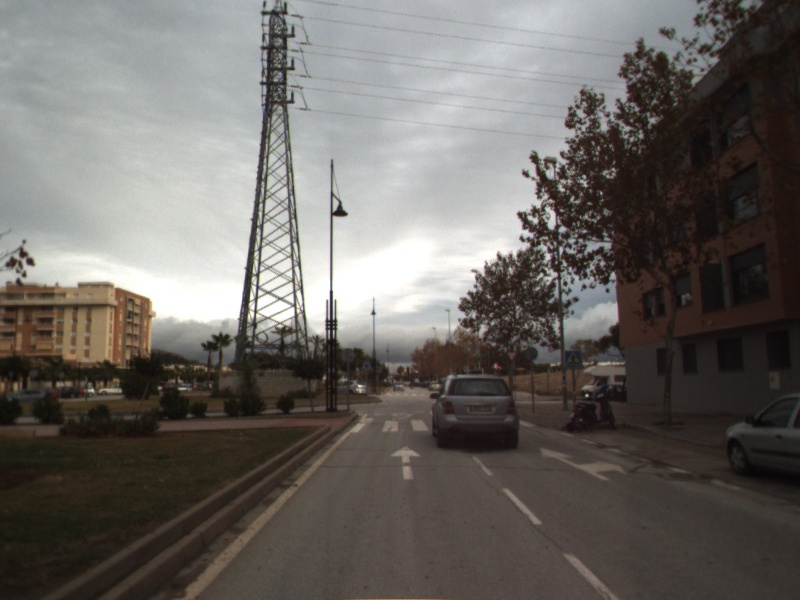STRAIGHT: (388, 443, 423, 482)
STRAIGHT_RIGHT: (538, 445, 629, 482)
